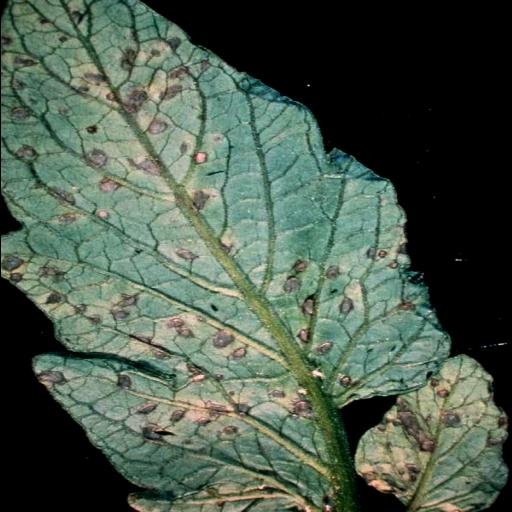Septoria: (0, 0, 456, 512), (353, 355, 512, 512)
